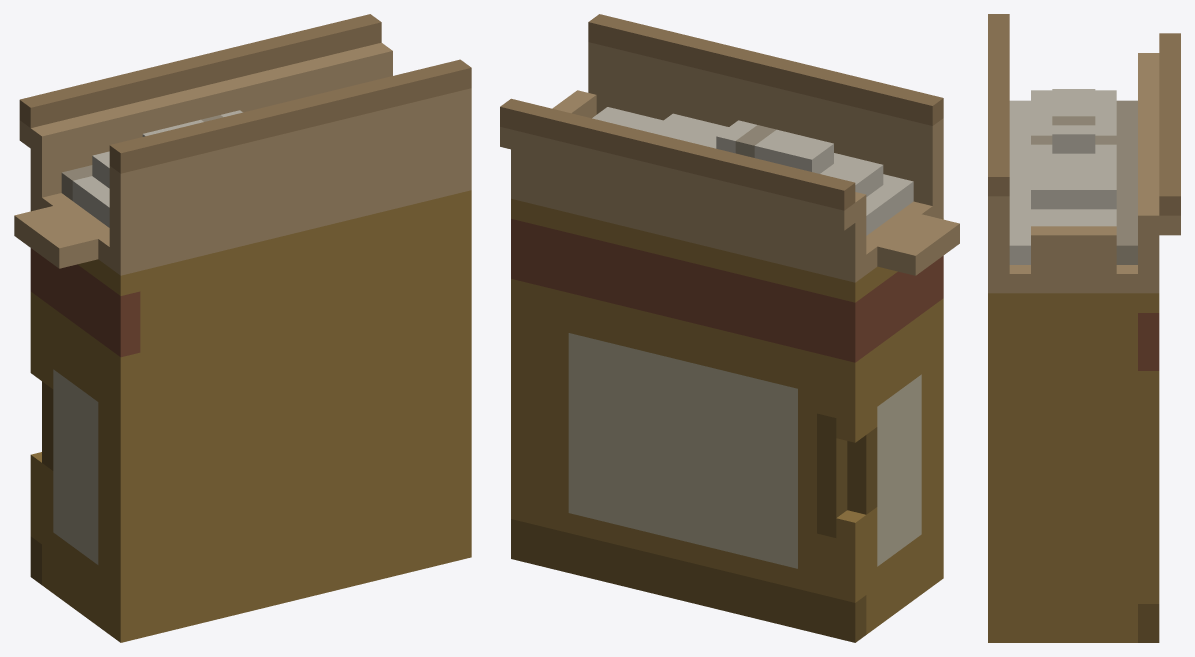
The model's file is Claude_food_box.glb.
3 views of the same model, side by side, from view 1: azimuth 30°, elevation 25°; view 2: azimuth 150°, elevation 25°; view 3: azimuth 270°, elevation 25° (orthographic). The views are drawn at different scales.
Parts seen in each view (by area): view 1: Claude_food_box; view 2: Claude_food_box; view 3: Claude_food_box.
Part boxes in pixels (box(x1,y1,x2,y2)): Claude_food_box: box(14, 14, 471, 642); Claude_food_box: box(500, 14, 959, 642); Claude_food_box: box(988, 14, 1180, 642).
Bounding box in the file's own units: 0.25 × 0.3 × 0.1125.
